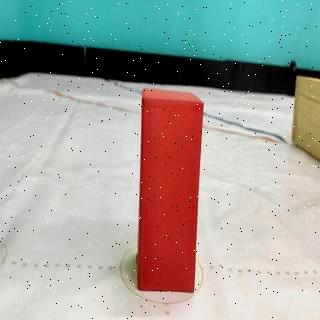redbox: (137, 88, 203, 293)
